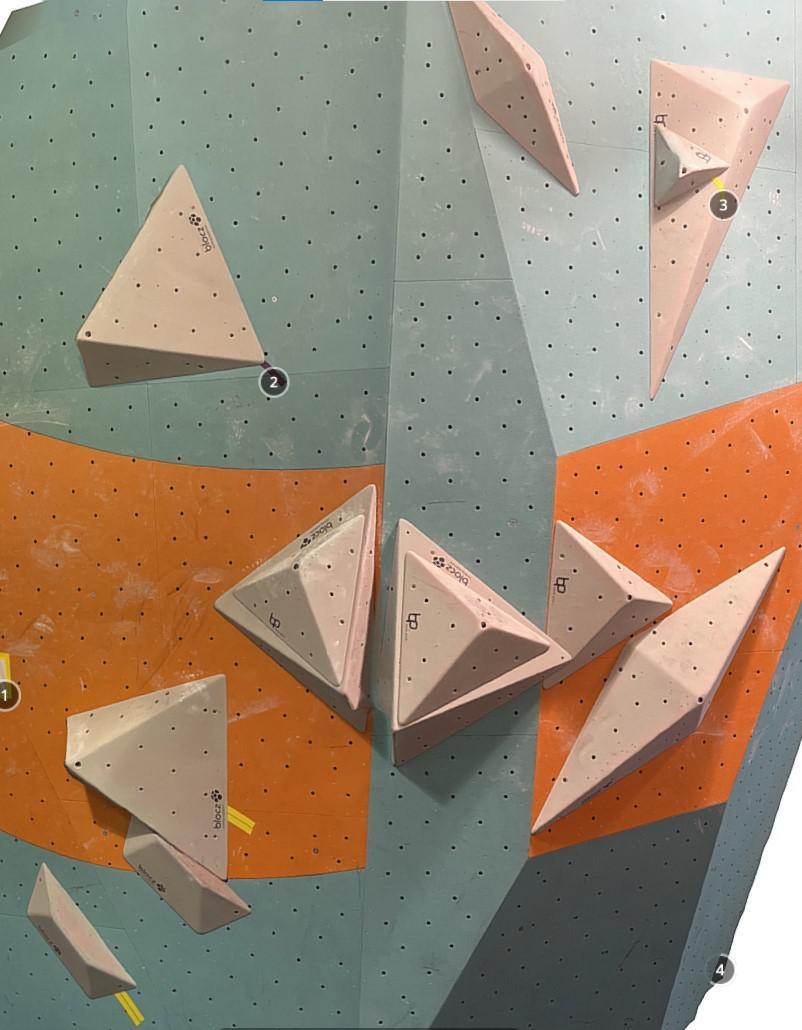volume: (530, 546, 786, 835), (373, 518, 572, 767), (650, 60, 790, 400), (75, 164, 265, 387), (214, 483, 376, 733), (65, 673, 228, 881), (397, 551, 550, 725), (448, 1, 580, 196), (233, 514, 365, 685), (543, 520, 673, 689), (123, 815, 251, 933), (27, 862, 136, 998), (654, 125, 729, 206)
